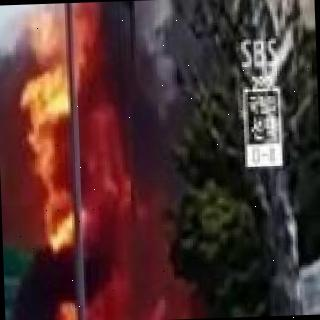fire: (20, 32, 130, 238), (57, 282, 163, 320)
